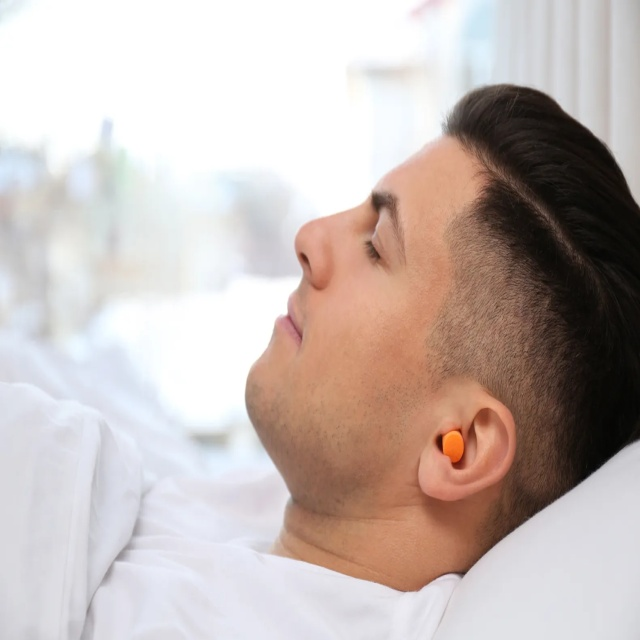Hearing_Protection: (422, 430, 474, 458)
